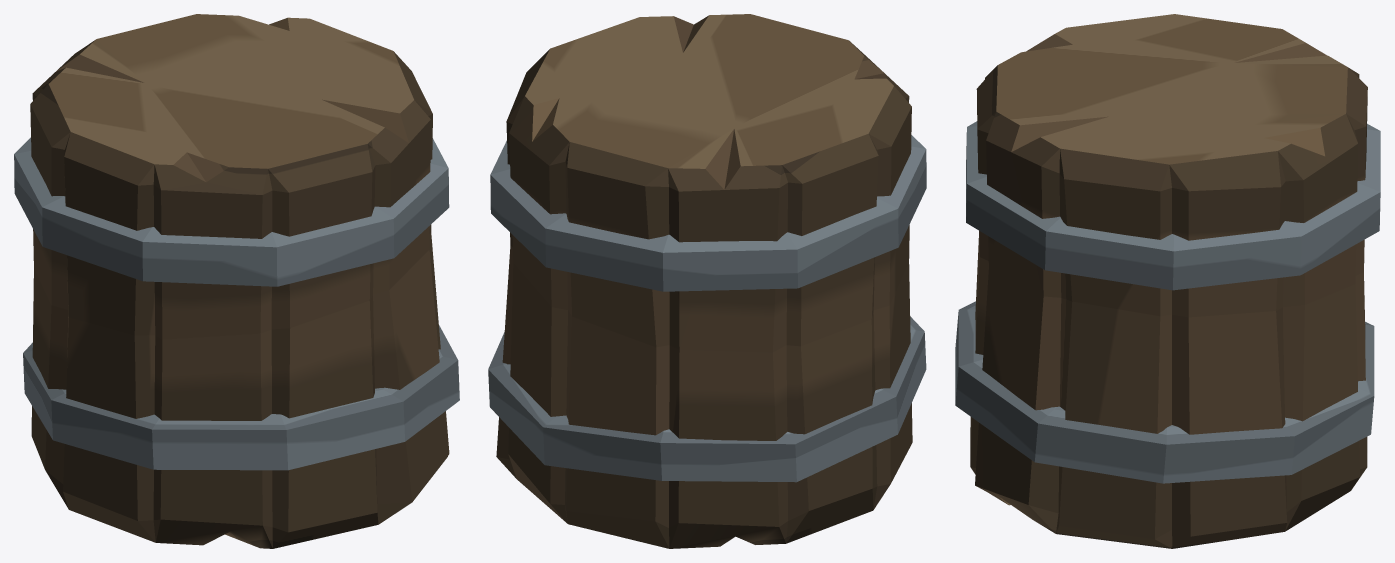
The model's file is SM_Prop_Stool_01.fbx.
3 renders of one model, left to right at view 1: azimuth 30°, elevation 25°; view 2: azimuth 150°, elevation 25°; view 3: azimuth 270°, elevation 25°, orthographic.
Visible parts, largest first — view 1: SM_Prop_Stool_01; view 2: SM_Prop_Stool_01; view 3: SM_Prop_Stool_01.
Part boxes in pixels (bbox=[...]): SM_Prop_Stool_01: bbox=[14, 14, 459, 548]; SM_Prop_Stool_01: bbox=[488, 14, 926, 548]; SM_Prop_Stool_01: bbox=[955, 14, 1380, 548].
Size of the model in its own units: 46.67 by 44.23 by 44.96.
